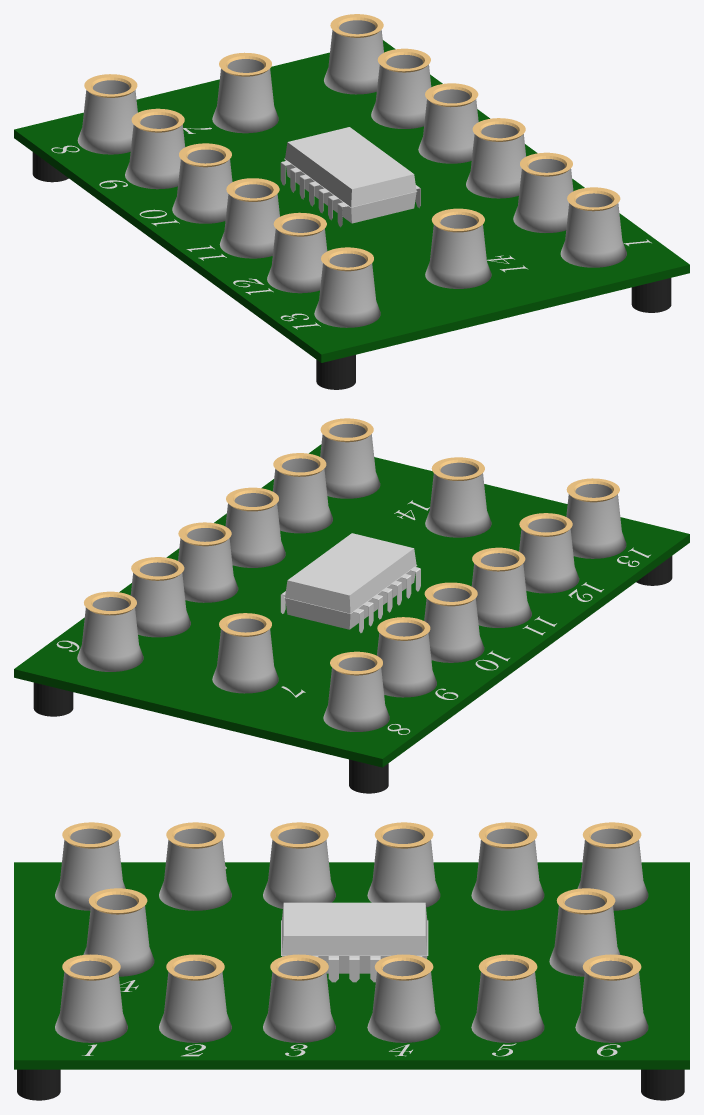
The model's file is boolean_plate.fbx.
3 views of the same model, one above another, from view 1: azimuth 30°, elevation 25°; view 2: azimuth 150°, elevation 25°; view 3: azimuth 270°, elevation 25° (orthographic). The views are drawn at different scales.
Visible parts, largest first — view 1: Cube, Cube.002, Cylinder.017, Cylinder.008, Cylinder.025, Cylinder.028, Cylinder.020, Cylinder.005, Cylinder.011, Cylinder.002, Cylinder.014, Cylinder.015 (+8 smaller); view 2: Cube, Cube.002, Cylinder.025, Cylinder.028, Cylinder.002, Cylinder.023, Cylinder.011, Cylinder.005, Cylinder.014, Cylinder.020, Cylinder.017, Cylinder.008 (+8 smaller); view 3: Cube, Cube.002, Cylinder.020, Cylinder.022, Cylinder.023, Cylinder.010, Cylinder.003, Cylinder.014, Cylinder.015, Cylinder.017, Cylinder.011, Cylinder.005 (+7 smaller).
Boxes of the visible parts, <box> form: Cube: <box>14,40,689,362</box>; Cube.002: <box>280,127,420,226</box>; Cylinder.017: <box>560,187,626,267</box>; Cylinder.008: <box>314,247,380,327</box>; Cylinder.025: <box>212,52,278,133</box>; Cylinder.028: <box>425,208,491,288</box>; Cylinder.020: <box>418,83,478,163</box>; Cylinder.005: <box>172,143,232,223</box>; Cylinder.011: <box>219,178,279,258</box>; Cylinder.002: <box>77,74,137,154</box>; Cylinder.014: <box>466,118,526,198</box>; Cylinder.015: <box>513,152,573,232</box>; Cube: <box>14,444,689,767</box>; Cube.002: <box>280,533,420,633</box>; Cylinder.025: <box>212,613,278,693</box>; Cylinder.028: <box>425,457,491,537</box>; Cylinder.002: <box>323,651,389,731</box>; Cylinder.023: <box>77,591,143,671</box>; Cylinder.011: <box>471,547,531,627</box>; Cylinder.005: <box>424,582,484,662</box>; Cylinder.014: <box>225,487,285,567</box>; Cylinder.020: <box>178,522,238,602</box>; Cylinder.017: <box>320,418,380,498</box>; Cylinder.008: <box>566,478,626,558</box>; Cube: <box>14,862,689,1069</box>; Cube.002: <box>281,902,428,982</box>; Cylinder.020: <box>367,954,440,1042</box>; Cylinder.022: <box>471,954,544,1042</box>; Cylinder.023: <box>575,954,648,1042</box>; Cylinder.010: <box>159,822,231,910</box>; Cylinder.003: <box>471,822,544,910</box>; Cylinder.014: <box>263,954,335,1042</box>; Cylinder.015: <box>159,954,231,1042</box>; Cylinder.017: <box>55,954,127,1042</box>; Cylinder.011: <box>263,822,335,908</box>; Cylinder.005: <box>367,822,440,907</box>.
Size of the model in its own units: 90 by 22.56 by 130.
